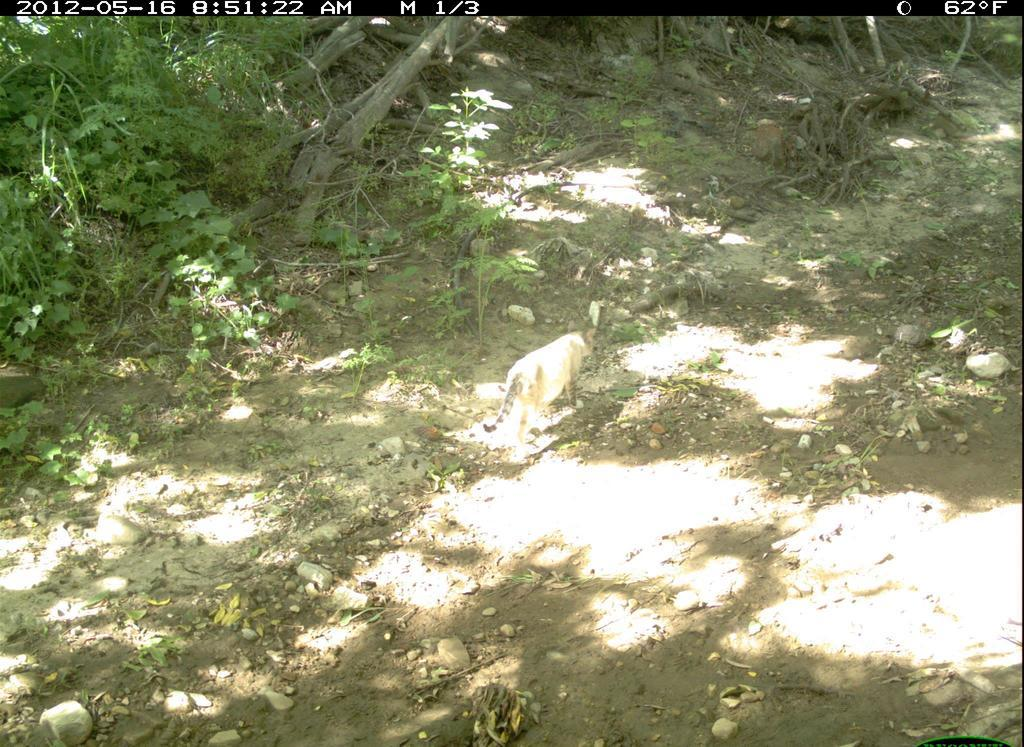cat: (474, 312, 632, 463)
